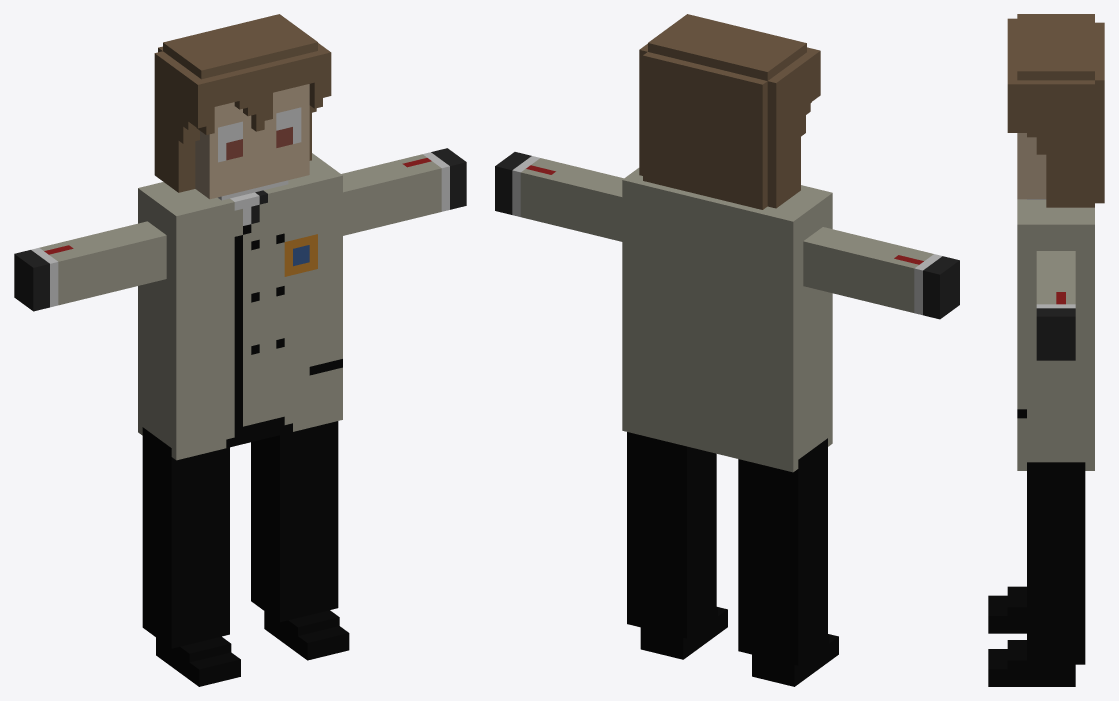
Rendered from novio_joker.obj.
The picture shows the model from 3 angles, left to right: view 1: azimuth 30°, elevation 25°; view 2: azimuth 150°, elevation 25°; view 3: azimuth 270°, elevation 25°; orthographic projection. The views are drawn at different scales.
Size of the model in its own units: 5.2 by 6.9 by 1.2.
Materials: 1 (1 with a texture image).
